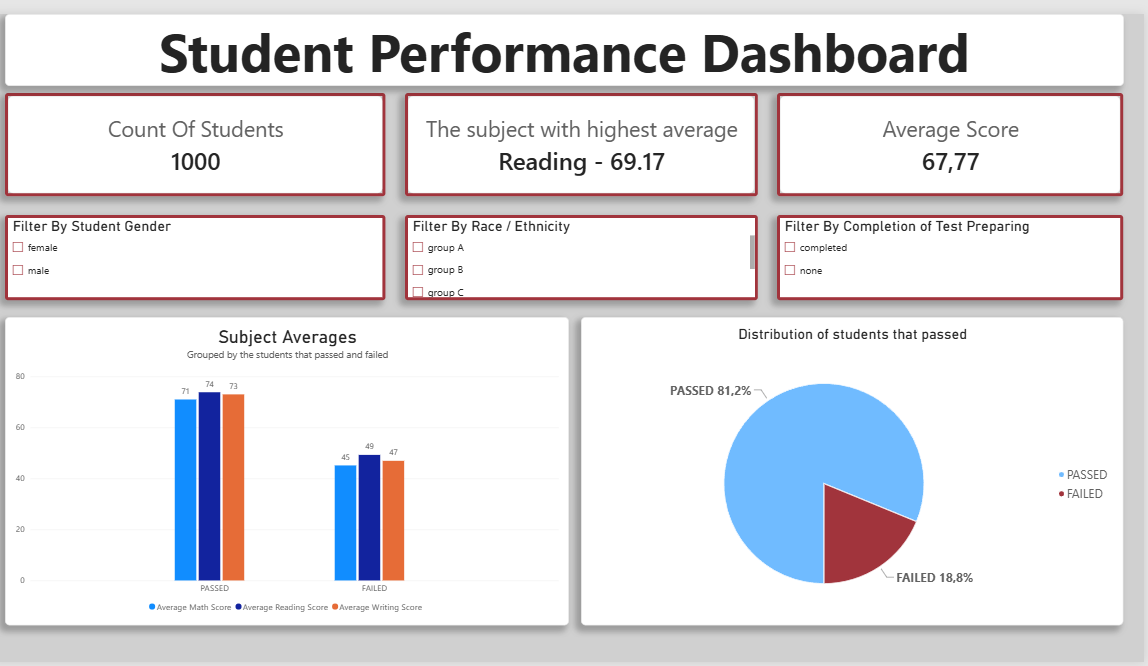

The page's visual inventory and layout, read from the dashboard file:
{"tool":"powerbi","page":{"name":"Grade Infos","canvas":[1920,1080],"ordinal":1},"visuals":[{"type":"slicer","fields":{"Values":["StudentsPerformance1.gender"]},"box":[21,335.7,634,142.4],"z":0},{"type":"slicer","fields":{"Values":["StudentsPerformance1.race/ethnicity"]},"box":[688,335.7,587.5,142.4],"z":1000},{"type":"slicer","fields":{"Values":["StudentsPerformance1.test preparation course"]},"box":[1308.5,335.7,577,142.4],"z":2000},{"type":"cardVisual","fields":{"Data":["CountNonNull(StudentsPerformance1.ID)"]},"box":[21,131.9,634,172.4],"z":3000},{"type":"cardVisual","fields":{"Data":["Avg(StudentsPerformance1.average score)"]},"box":[1308.5,131.9,577,172.4],"z":4000},{"type":"cardVisual","fields":{"Data":["StudentsPerformance1.HighestAverageSubject"]},"box":[688,131.9,587.5,172.4],"z":5000},{"type":"clusteredColumnChart","title":"Subject Averages","fields":{"Category":["StudentsPerformance1.has passed"],"Y":["StudentsPerformance1.AverageMathScore","StudentsPerformance1.AverageReadingScore","StudentsPerformance1.AverageWritingScore"]},"box":[21.4,505.7,939.8,514.1],"z":6000},{"type":"pieChart","title":"Distribution of students that passed","fields":{"Category":["StudentsPerformance1.has passed"],"Y":["CountNonNull(StudentsPerformance1.has passed)"]},"box":[981.4,505.7,903.8,514.1],"z":7000},{"type":"textbox","box":[21,0,1864.5,119.9],"z":8000}]}

Visuals, with their boxes on the page's 1920x1080 design canvas (x1, y1, x2, y2). These are canvas units, not pixel positions in the 1148x666 screenshot, which may show the page scaled, cropped or inside an application window:
slicer - StudentsPerformance1.gender: [21, 336, 655, 478]
slicer - StudentsPerformance1.race/ethnicity: [688, 336, 1276, 478]
slicer - StudentsPerformance1.test preparation course: [1308, 336, 1886, 478]
cardVisual - CountNonNull(StudentsPerformance1.ID): [21, 132, 655, 304]
cardVisual - Avg(StudentsPerformance1.average score): [1308, 132, 1886, 304]
cardVisual - StudentsPerformance1.HighestAverageSubject: [688, 132, 1276, 304]
"Subject Averages" clusteredColumnChart: [21, 506, 961, 1020]
"Distribution of students that passed" pieChart: [981, 506, 1885, 1020]
textbox: [21, 0, 1886, 120]
